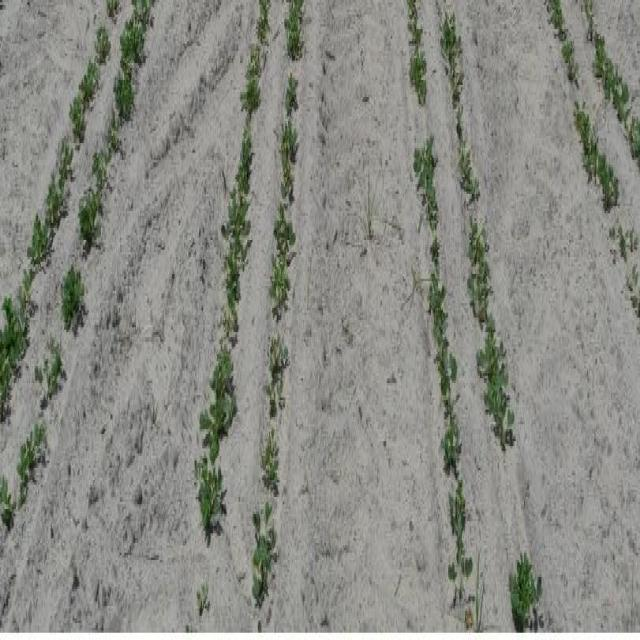row: (2, 0, 255, 629), (460, 0, 640, 630), (275, 0, 453, 630), (0, 0, 104, 322), (599, 0, 640, 115)
